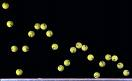tennis ball: (26, 29, 38, 40), (14, 67, 25, 77), (21, 44, 31, 54), (103, 52, 113, 62), (115, 60, 125, 70), (97, 60, 108, 69), (10, 44, 19, 54), (51, 42, 60, 52), (80, 43, 90, 52), (92, 70, 102, 79), (121, 68, 130, 78), (62, 59, 73, 67), (45, 29, 54, 38), (86, 53, 95, 62), (34, 21, 42, 31), (68, 46, 78, 54), (111, 53, 119, 63), (41, 23, 49, 32), (57, 64, 66, 72), (74, 41, 83, 49), (5, 20, 15, 27), (2, 2, 10, 10)
